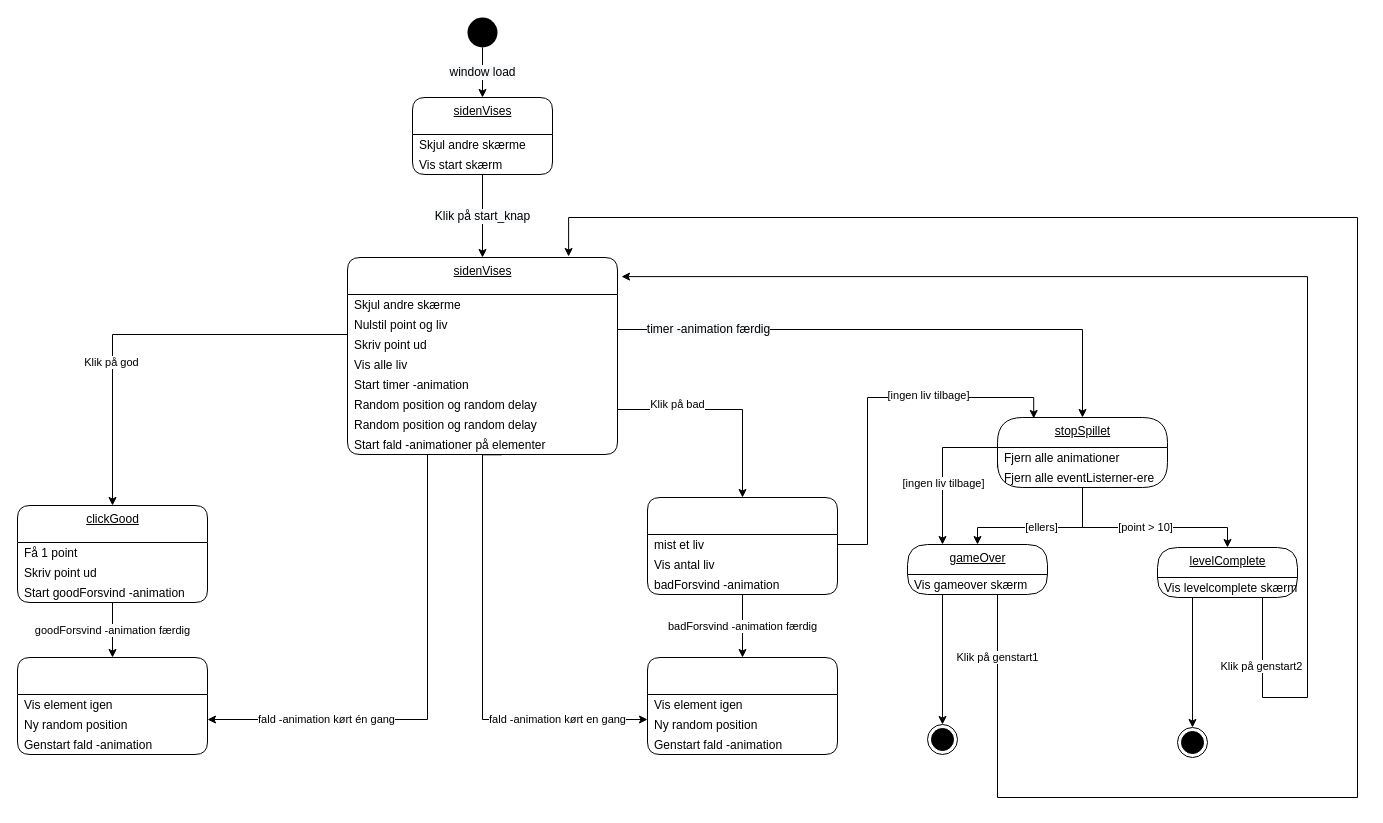
Image size: 1383x823. Some labels were removed from this diagram. The box of each missing label's shape, as (x1, y1, x2, y2) in pixels:
badReset: (646, 656, 838, 754)
clickBad: (646, 496, 838, 594)
goodReset: (16, 656, 208, 754)
